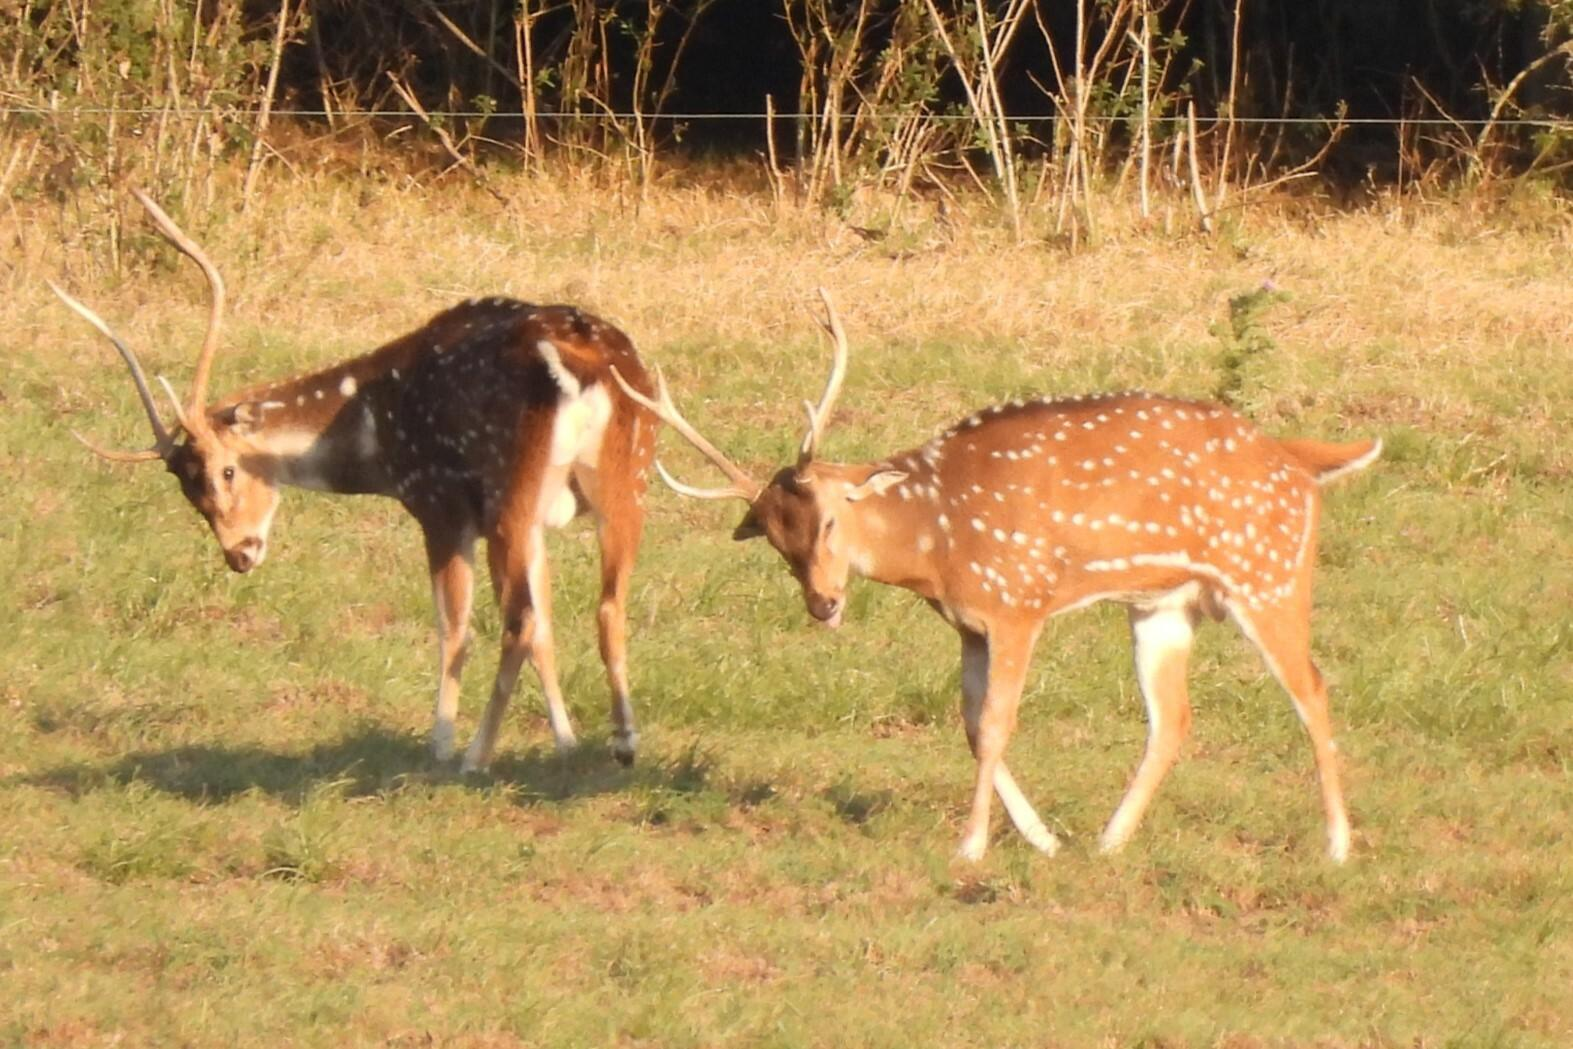Deer: (165, 297, 655, 770)
